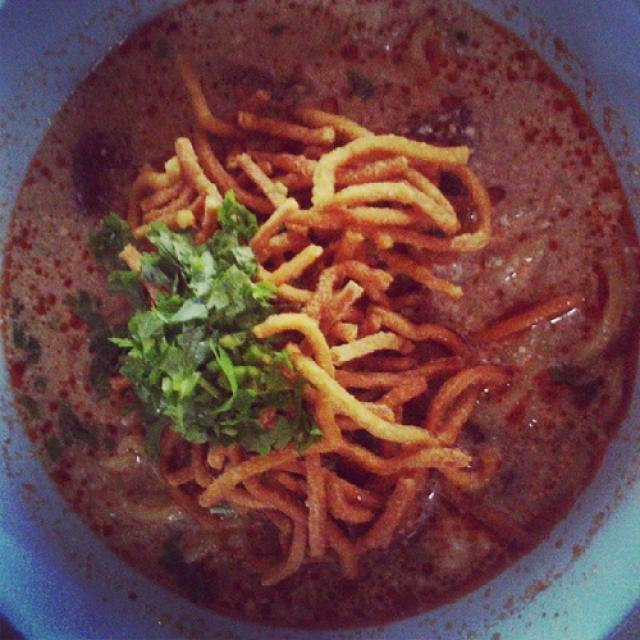面条主食: (41, 20, 616, 608)
